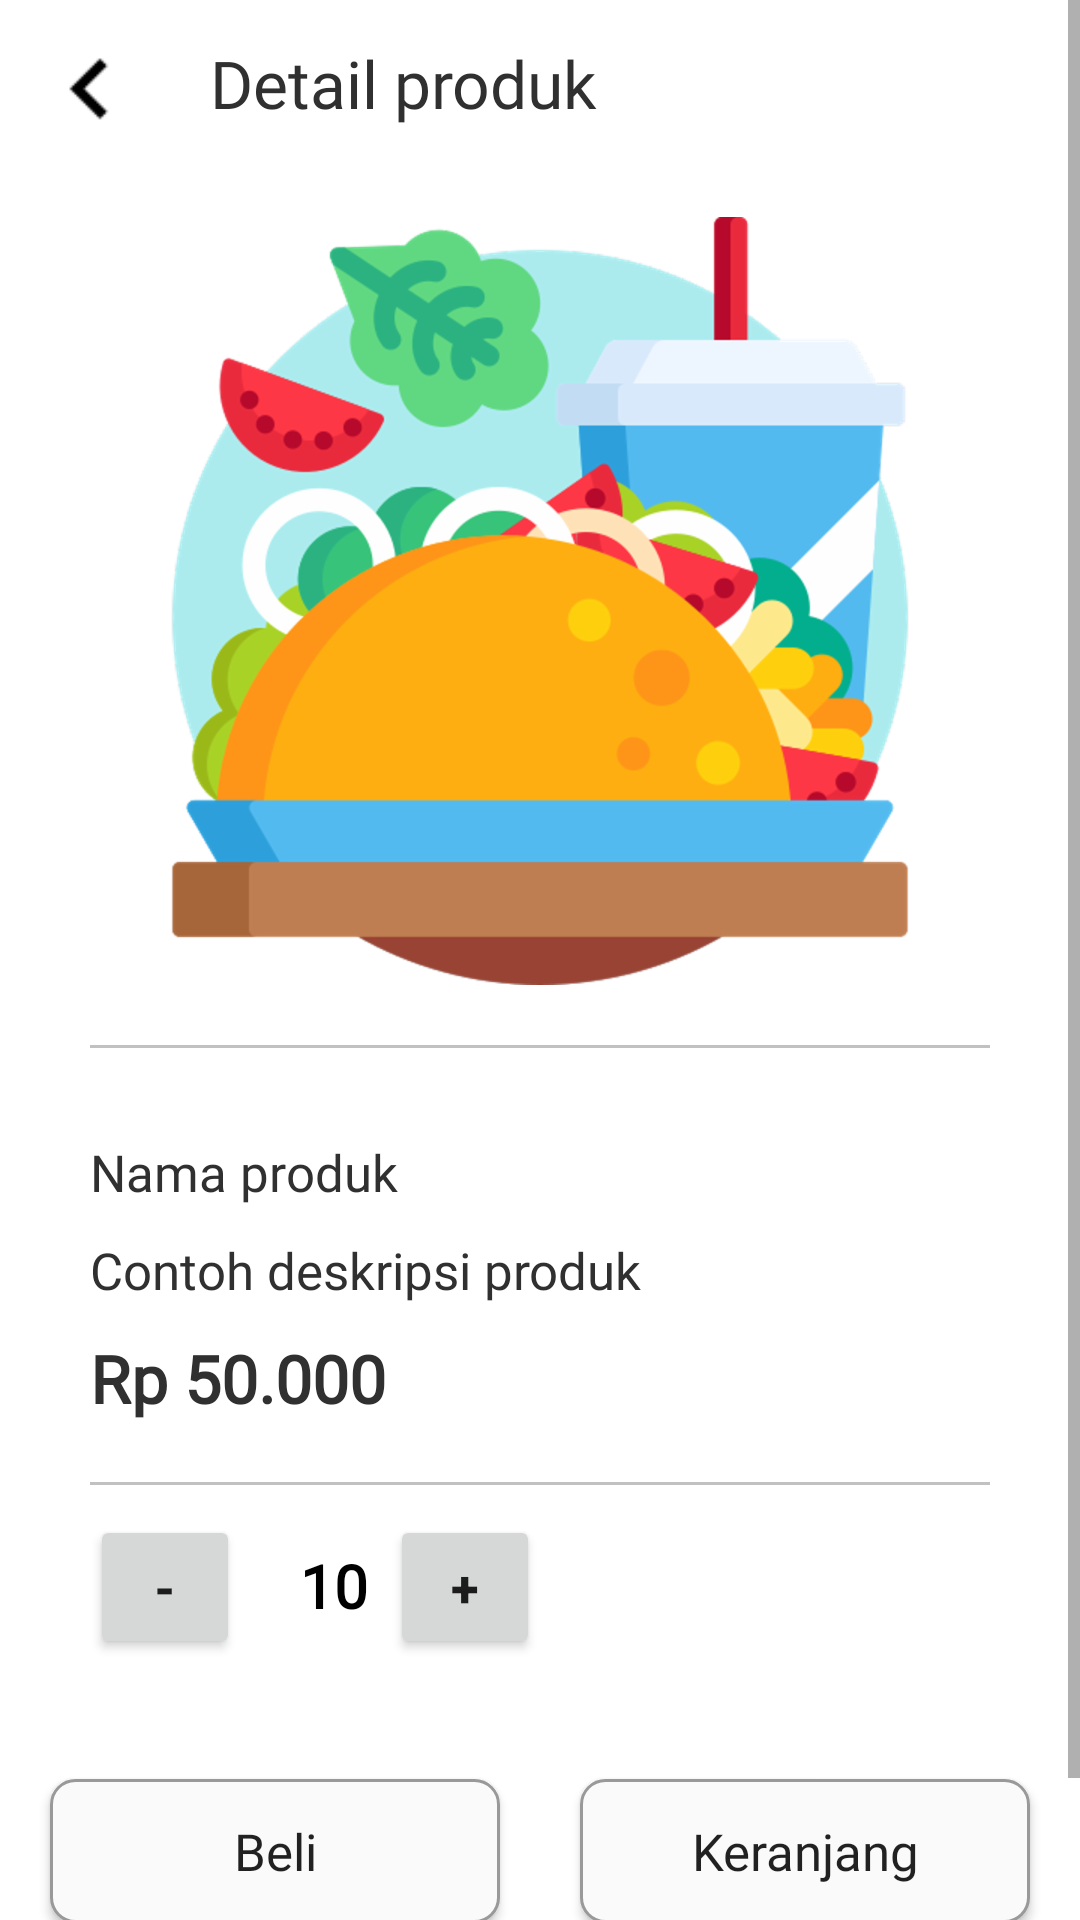

Screen size 1080x1920. Icon name, then its box in pixels as (x1, y1, x2, y2):
arrow left: (69, 58, 108, 120)
